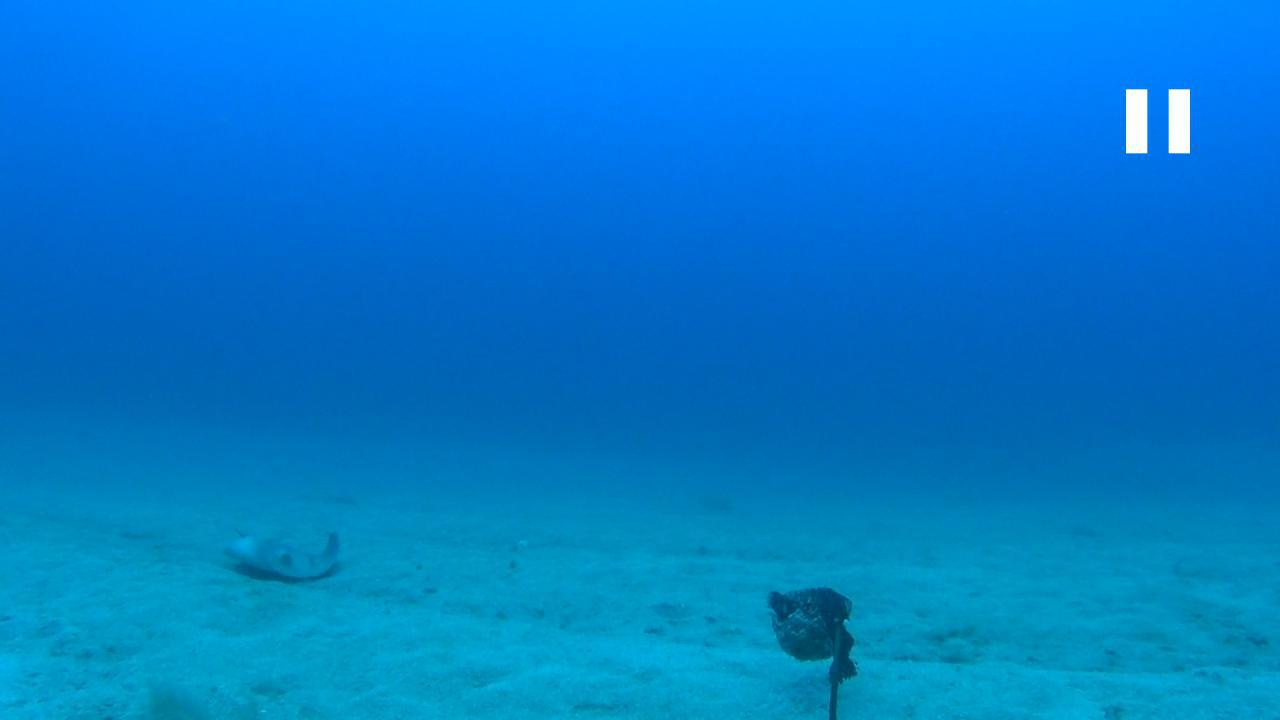dasyatis: (222, 526, 340, 580)
